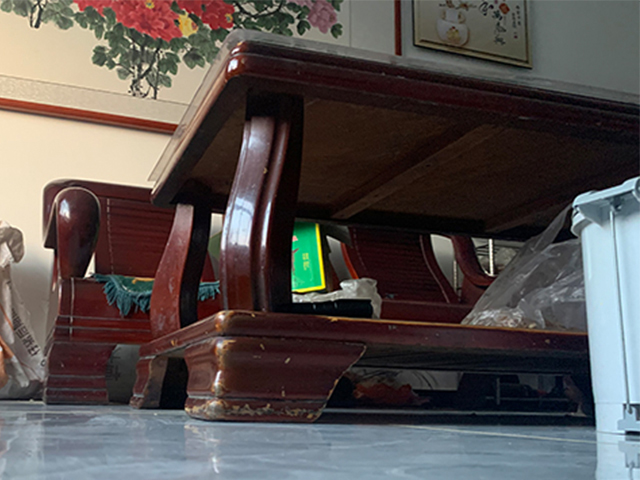sofa: (41, 177, 220, 408)
table: (128, 29, 639, 426)
trashcan: (571, 176, 640, 438)
